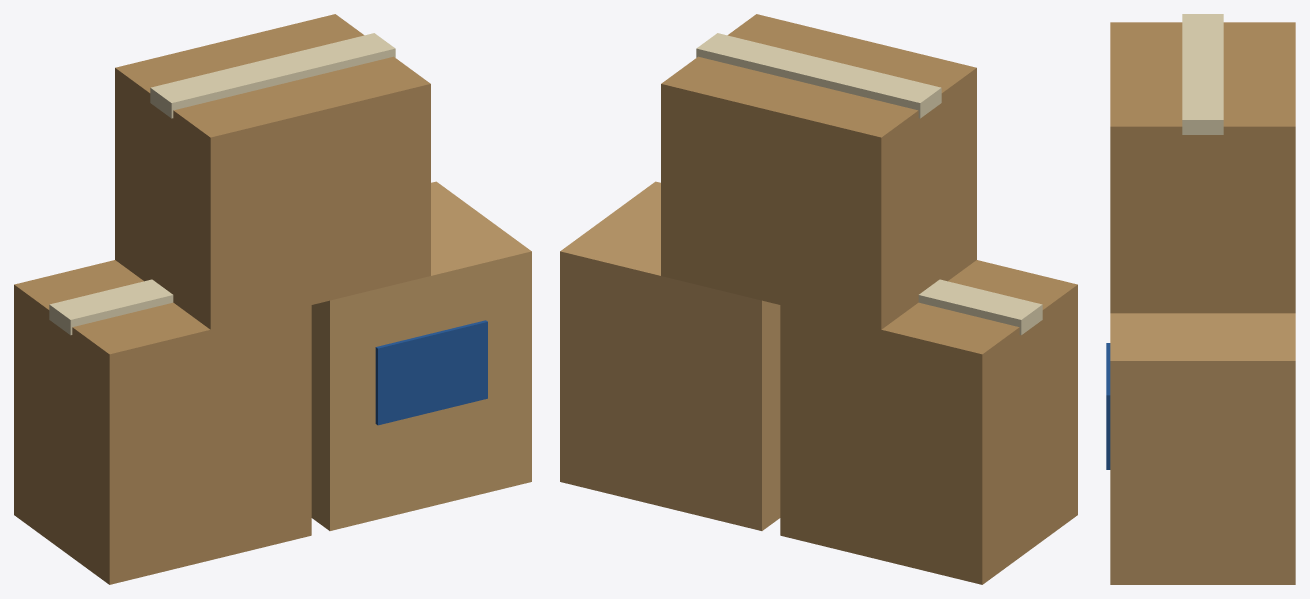
Rendered from cartons.glb.
3 renders of one model, left to right at view 1: azimuth 30°, elevation 25°; view 2: azimuth 150°, elevation 25°; view 3: azimuth 270°, elevation 25°, orthographic. The views are drawn at different scales.
Parts seen in each view (by area): view 1: cartons-b8925f, cartons-c49e6a, cartons-e5d9b6, cartons-2a5fa0; view 2: cartons-b8925f, cartons-c49e6a, cartons-e5d9b6; view 3: cartons-c49e6a, cartons-b8925f, cartons-e5d9b6, cartons-2a5fa0.
Boxes of the visible parts, left/top/right/bottom form: cartons-b8925f: left=14, top=14, right=430, bottom=584; cartons-c49e6a: left=311, top=181, right=531, bottom=530; cartons-e5d9b6: left=49, top=33, right=395, bottom=335; cartons-2a5fa0: left=375, top=320, right=487, bottom=425; cartons-b8925f: left=661, top=14, right=1077, bottom=584; cartons-c49e6a: left=560, top=181, right=780, bottom=530; cartons-e5d9b6: left=696, top=33, right=1042, bottom=335; cartons-c49e6a: left=1110, top=313, right=1295, bottom=584; cartons-b8925f: left=1110, top=22, right=1295, bottom=313; cartons-e5d9b6: left=1182, top=14, right=1223, bottom=134; cartons-2a5fa0: left=1106, top=343, right=1110, bottom=469.
Size of the model in its own units: 1.15 by 1.12 by 0.46.
